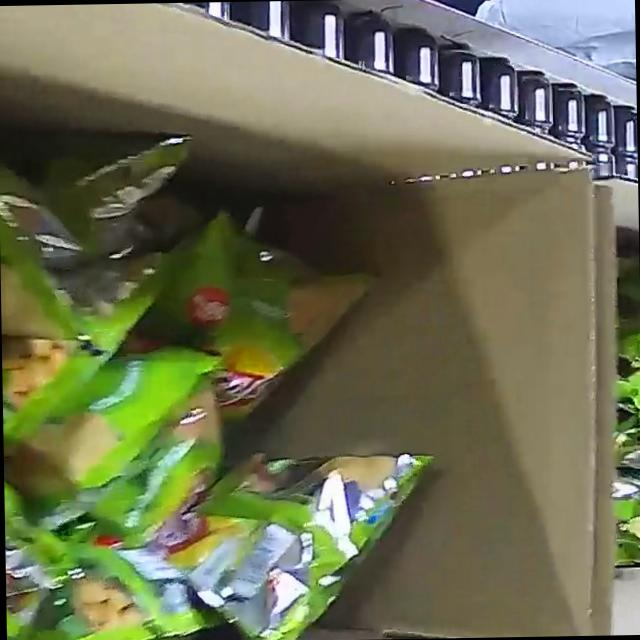yogurt: (0, 49, 437, 640), (601, 272, 640, 610)
